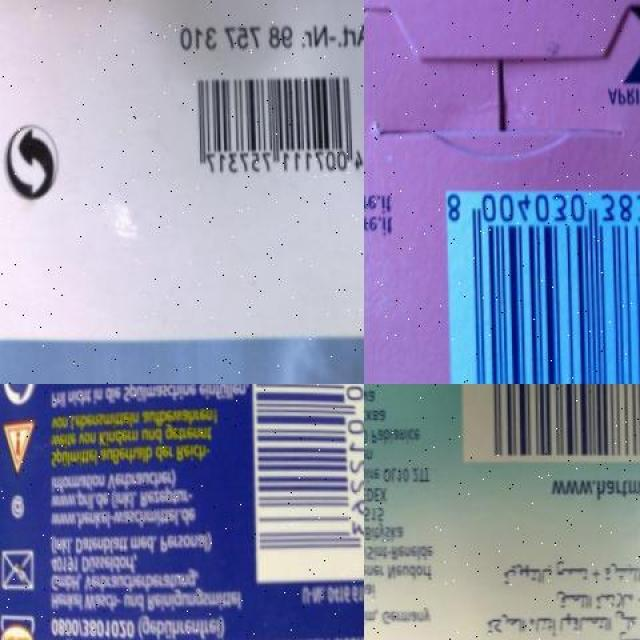Barcode: (442, 182, 640, 384), (185, 57, 364, 188), (248, 384, 364, 583), (460, 384, 640, 465)
